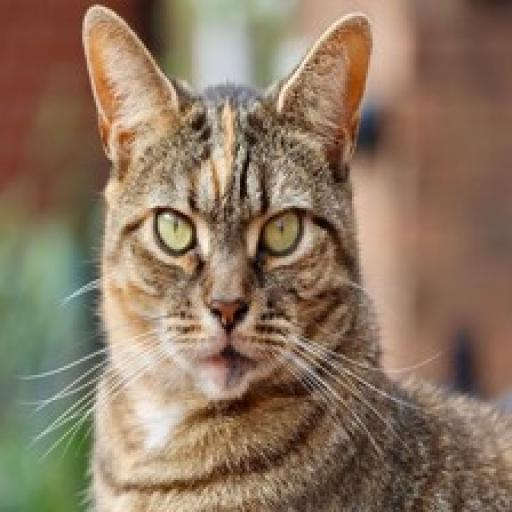cat: (54, 3, 512, 512)
